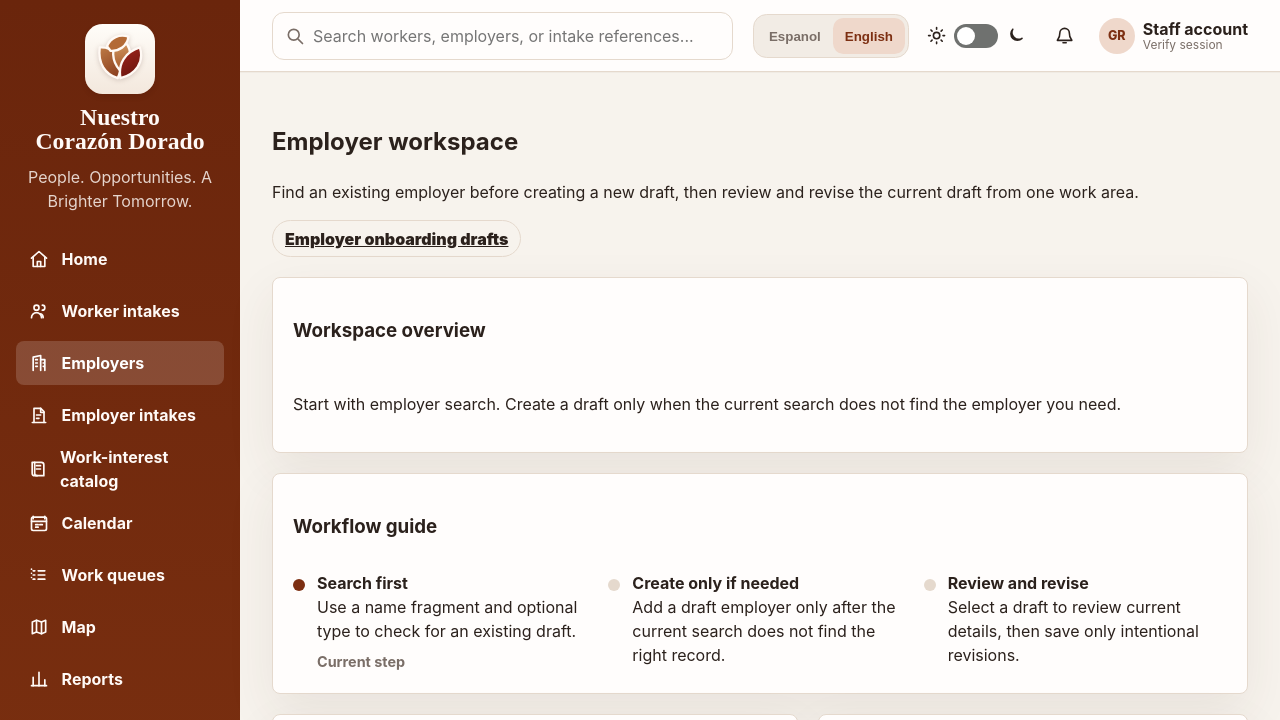
Test: LanguageProvider › switches all shell copy and document language
Check: the heading "Nuestro Corazón Dorado" is shown, box [36, 106, 204, 153]
Click the button with aria-label "Cambiar a español": [795, 36] box [757, 18, 833, 54]
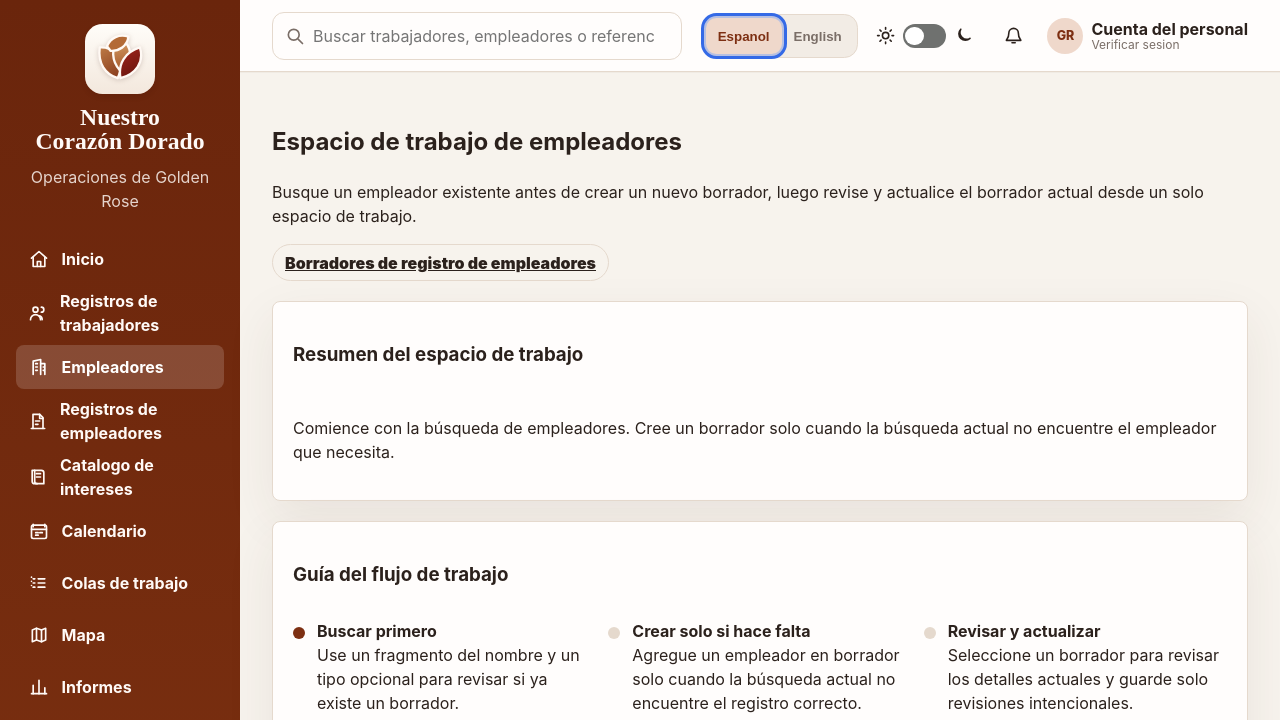
Check: the heading "Nuestro Corazón Dorado" is shown, box [36, 106, 204, 153]
Check: the button with aria-label "Switch to English" is shown
Click the button with aria-label "Switch to English": [818, 36] box [782, 18, 854, 54]
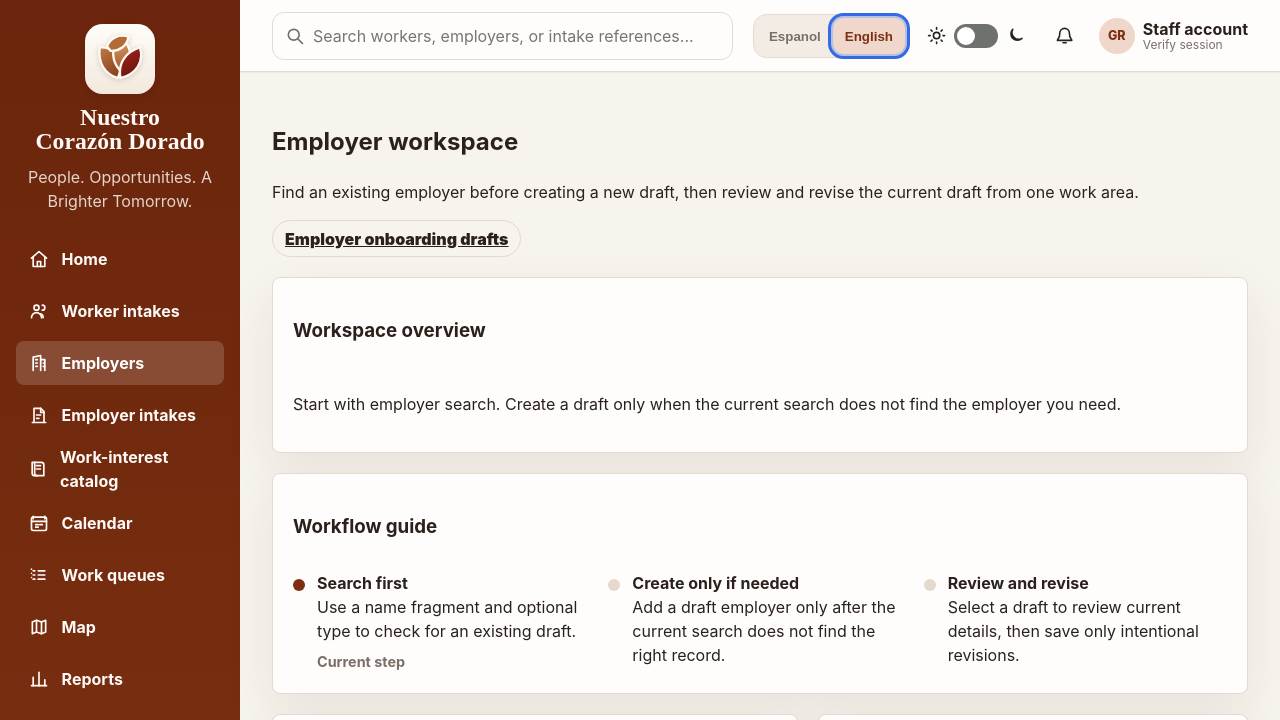
Check: the heading "Nuestro Corazón Dorado" is shown, box [36, 106, 204, 153]
Check: the button with aria-label "Cambiar a español" is shown, box [757, 18, 833, 54]
